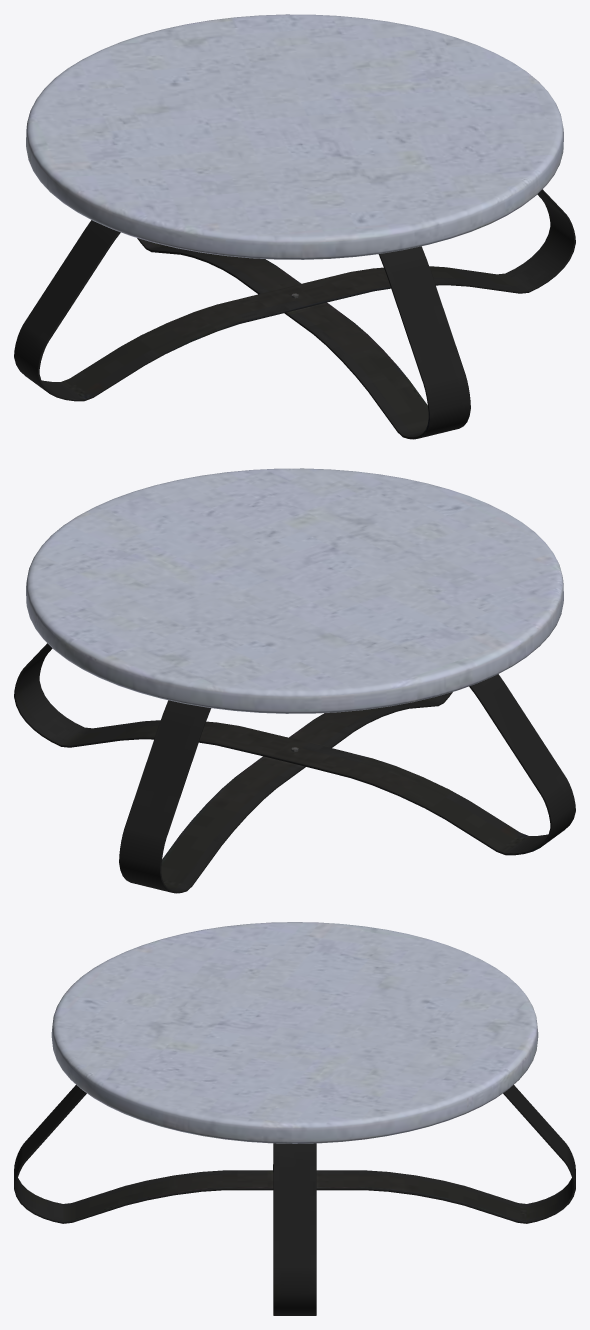
3 views of the same model, one above another, from view 1: azimuth 30°, elevation 25°; view 2: azimuth 150°, elevation 25°; view 3: azimuth 270°, elevation 25° (orthographic). The views are drawn at different scales.
Parts seen in each view (by area): view 1: coffee_table_round_01; view 2: coffee_table_round_01; view 3: coffee_table_round_01.
Part boxes in pixels (left/top/right/bottom): coffee_table_round_01: left=14, top=14, right=575, bottom=439; coffee_table_round_01: left=14, top=468, right=575, bottom=893; coffee_table_round_01: left=14, top=922, right=575, bottom=1315.
Bounding box in the file's own units: 1.3 × 0.491 × 1.3.
1 material, 1 textured.
